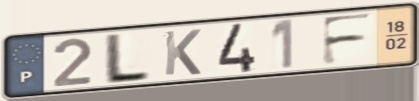1: (266, 17, 295, 72)
2: (50, 36, 94, 89)
4: (216, 22, 259, 75)
F: (319, 11, 377, 68)
K: (162, 27, 204, 78)
L: (100, 31, 154, 86)
